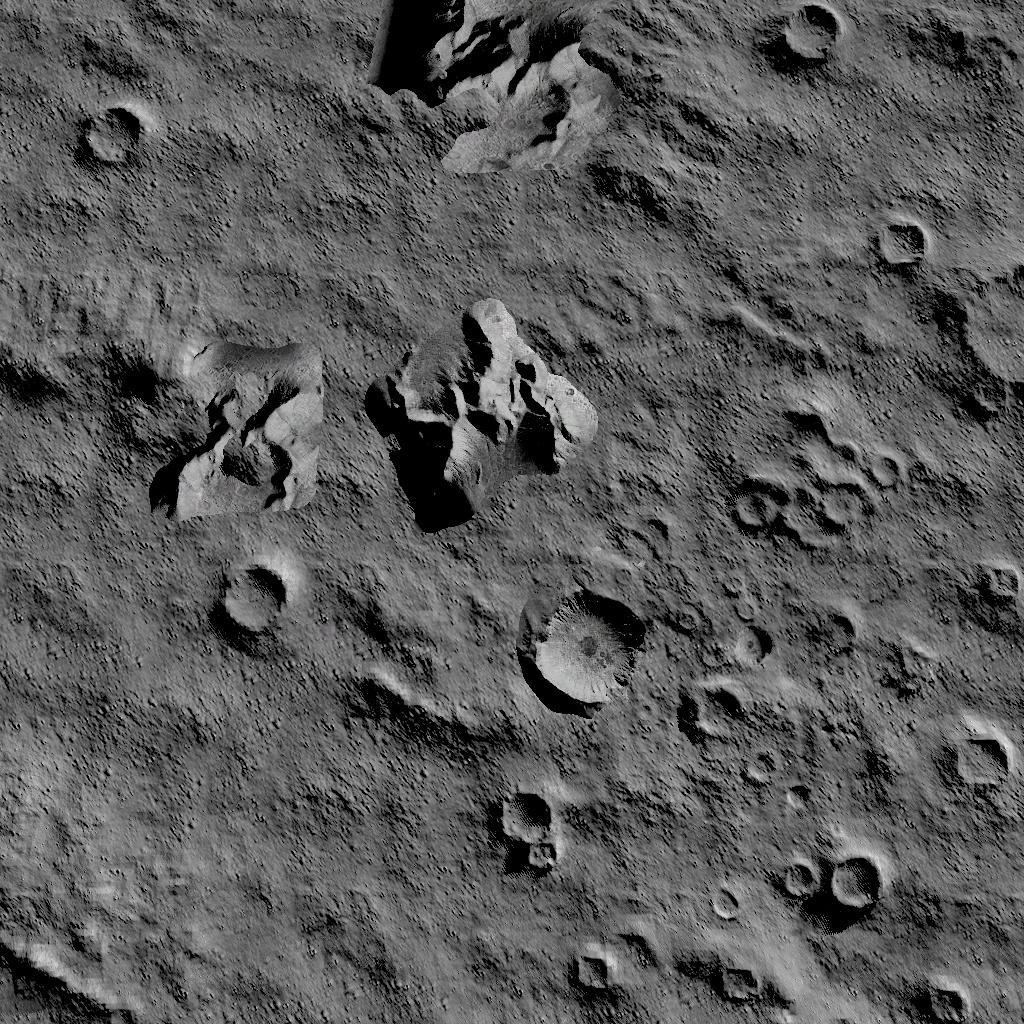Boulders: (0, 286, 326, 542), (357, 0, 646, 203), (358, 306, 604, 542), (346, 672, 492, 770), (124, 0, 300, 79), (902, 2, 1024, 109), (332, 570, 450, 656), (0, 944, 98, 1024)
Crater: (717, 386, 902, 576), (510, 582, 656, 720), (680, 686, 786, 804), (950, 266, 1024, 431), (204, 562, 299, 670), (776, 854, 892, 936), (487, 782, 566, 889), (752, 0, 844, 79), (64, 104, 148, 189), (944, 730, 1018, 814), (863, 212, 934, 284), (964, 560, 1024, 630), (802, 604, 858, 676), (568, 947, 628, 1001), (897, 982, 972, 1024), (719, 962, 766, 1024)
Plan surface: (10, 560, 188, 890), (125, 914, 558, 1022), (210, 682, 336, 902), (342, 778, 470, 903)
